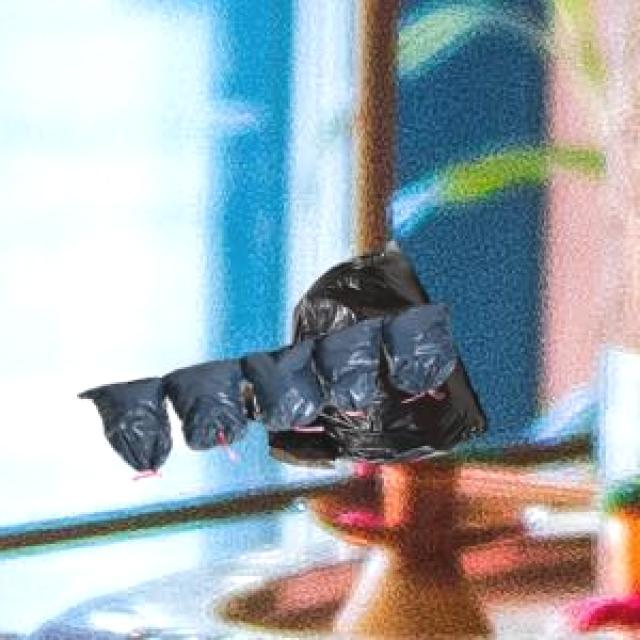Trashbag: (382, 292, 458, 396), (172, 348, 245, 454), (98, 369, 165, 466), (328, 309, 393, 406), (253, 339, 320, 429)
